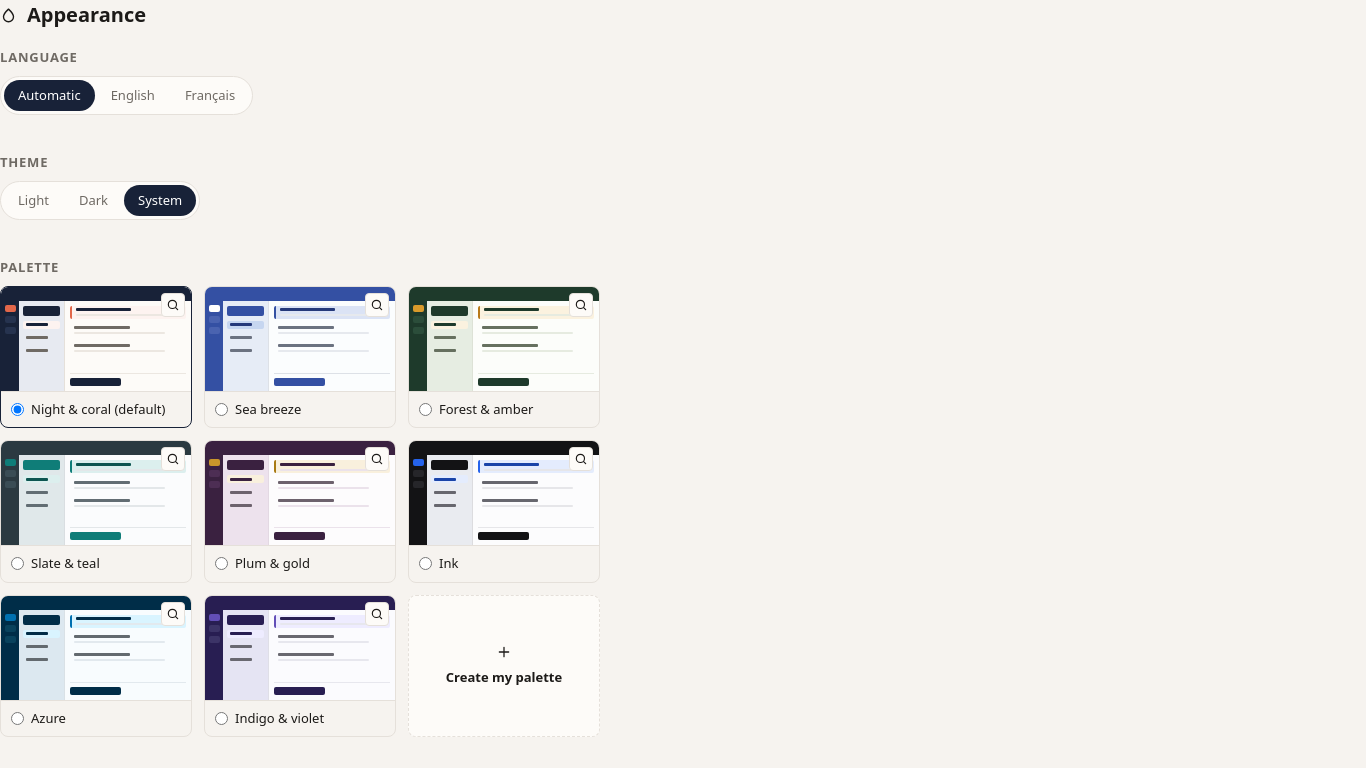
Scenario: AppearancePage — my palette › keeps the editor open and the palette unchanged when saving fails
This screenshot has width=1366, height=768.
What coordinates should you click on to do the following:
click the button "Create my palette"
I would click on:
 (504, 666)
Its box is [408,594,600,737].
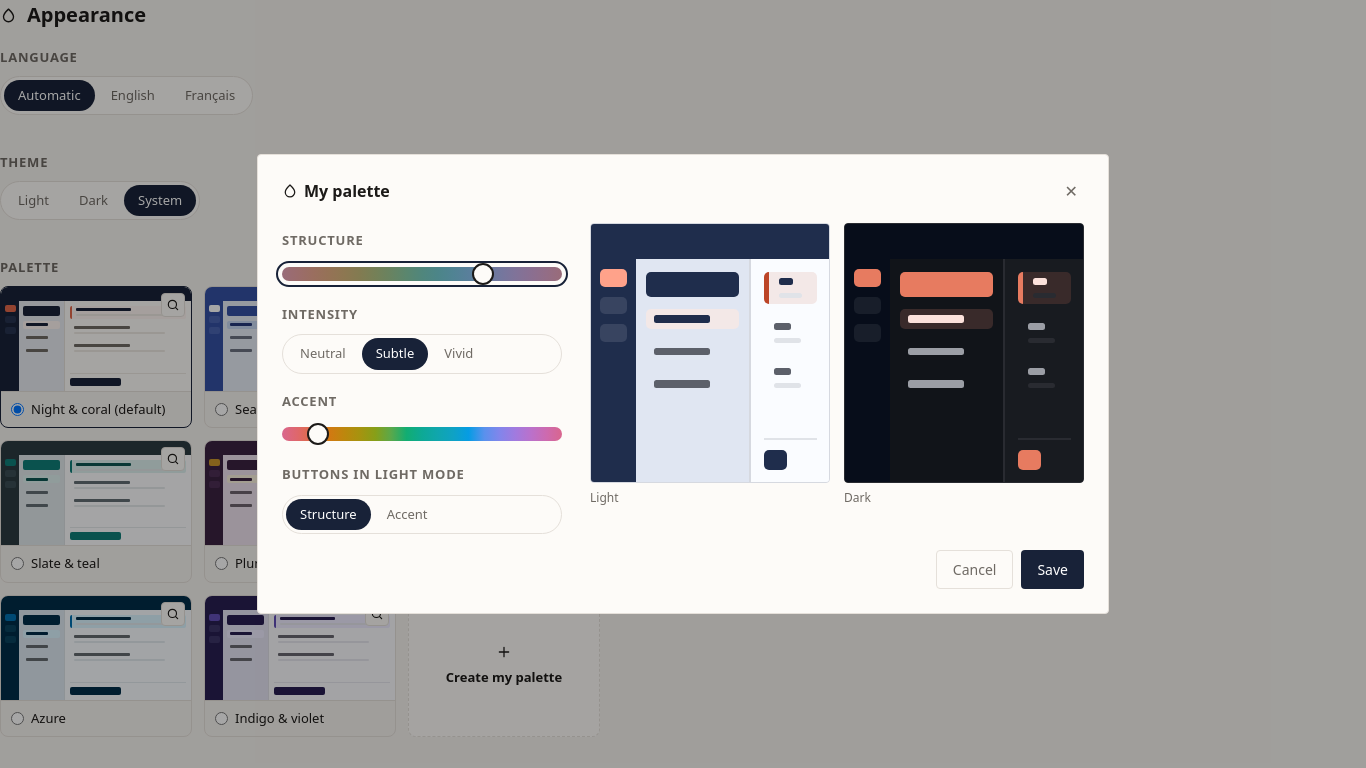
What coordinates should you click on to do the following:
click the button "Save"
I would click on:
 (1053, 570)
Its box is [1021,550,1084,589].
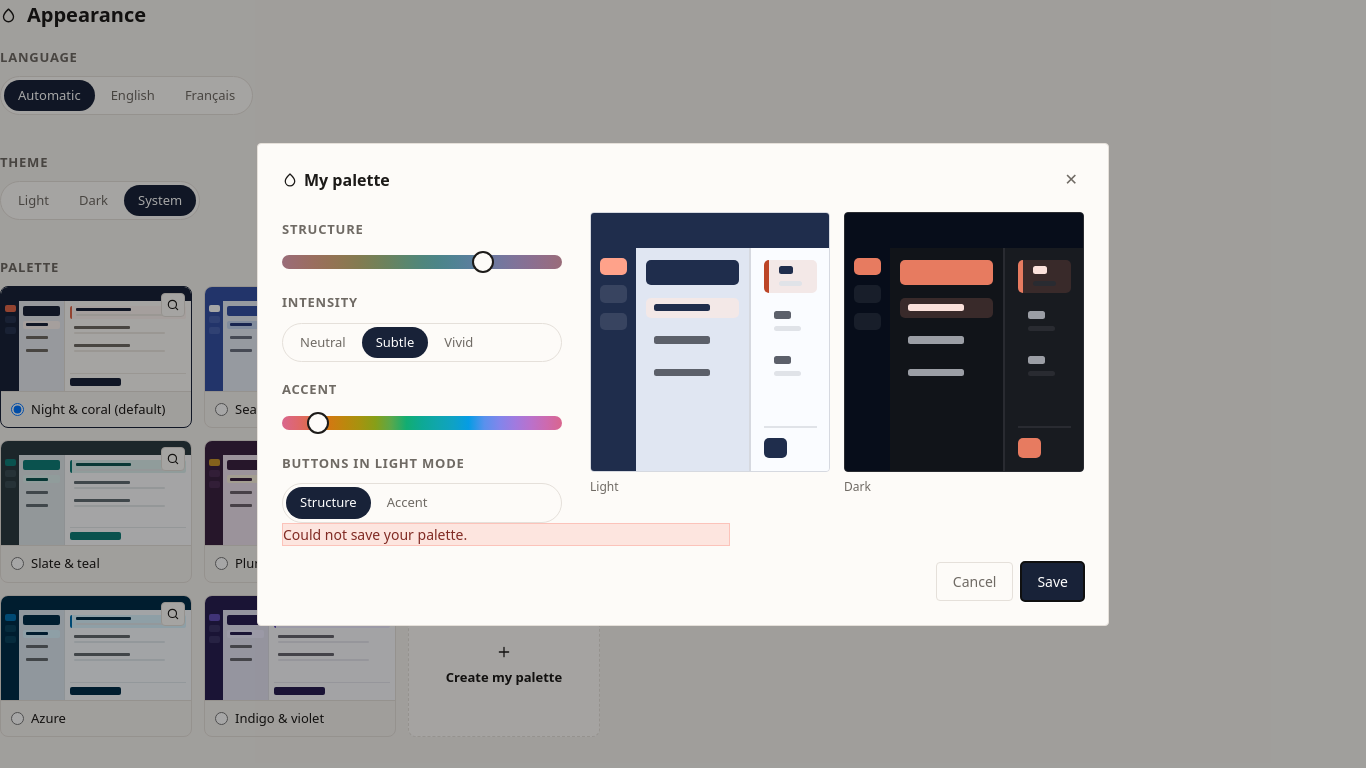
Result: the dialog is shown at [257,142,1109,626]
Result: the text "Could not save your palette." is shown at [282,522,730,546]
